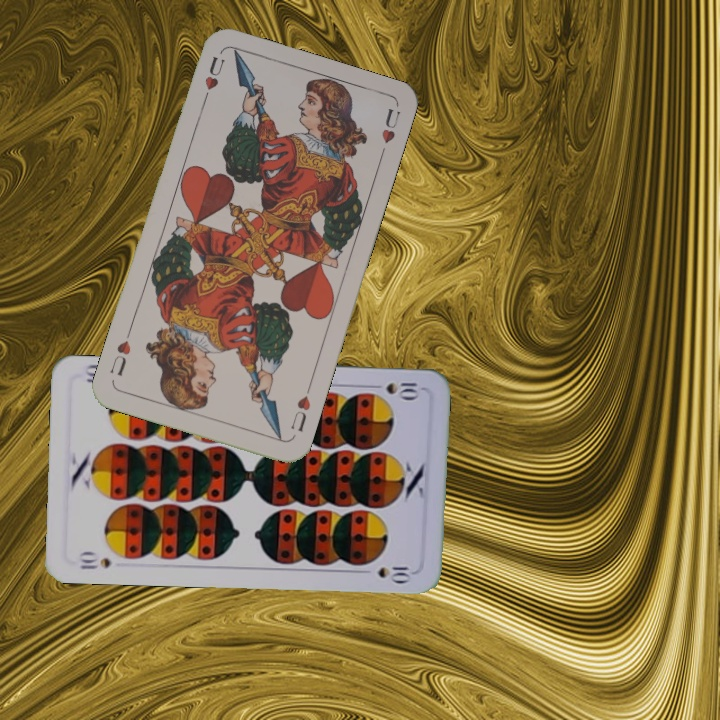HU: (198, 52, 228, 107), (286, 391, 314, 434)
S10: (75, 548, 115, 572), (382, 378, 424, 400)
